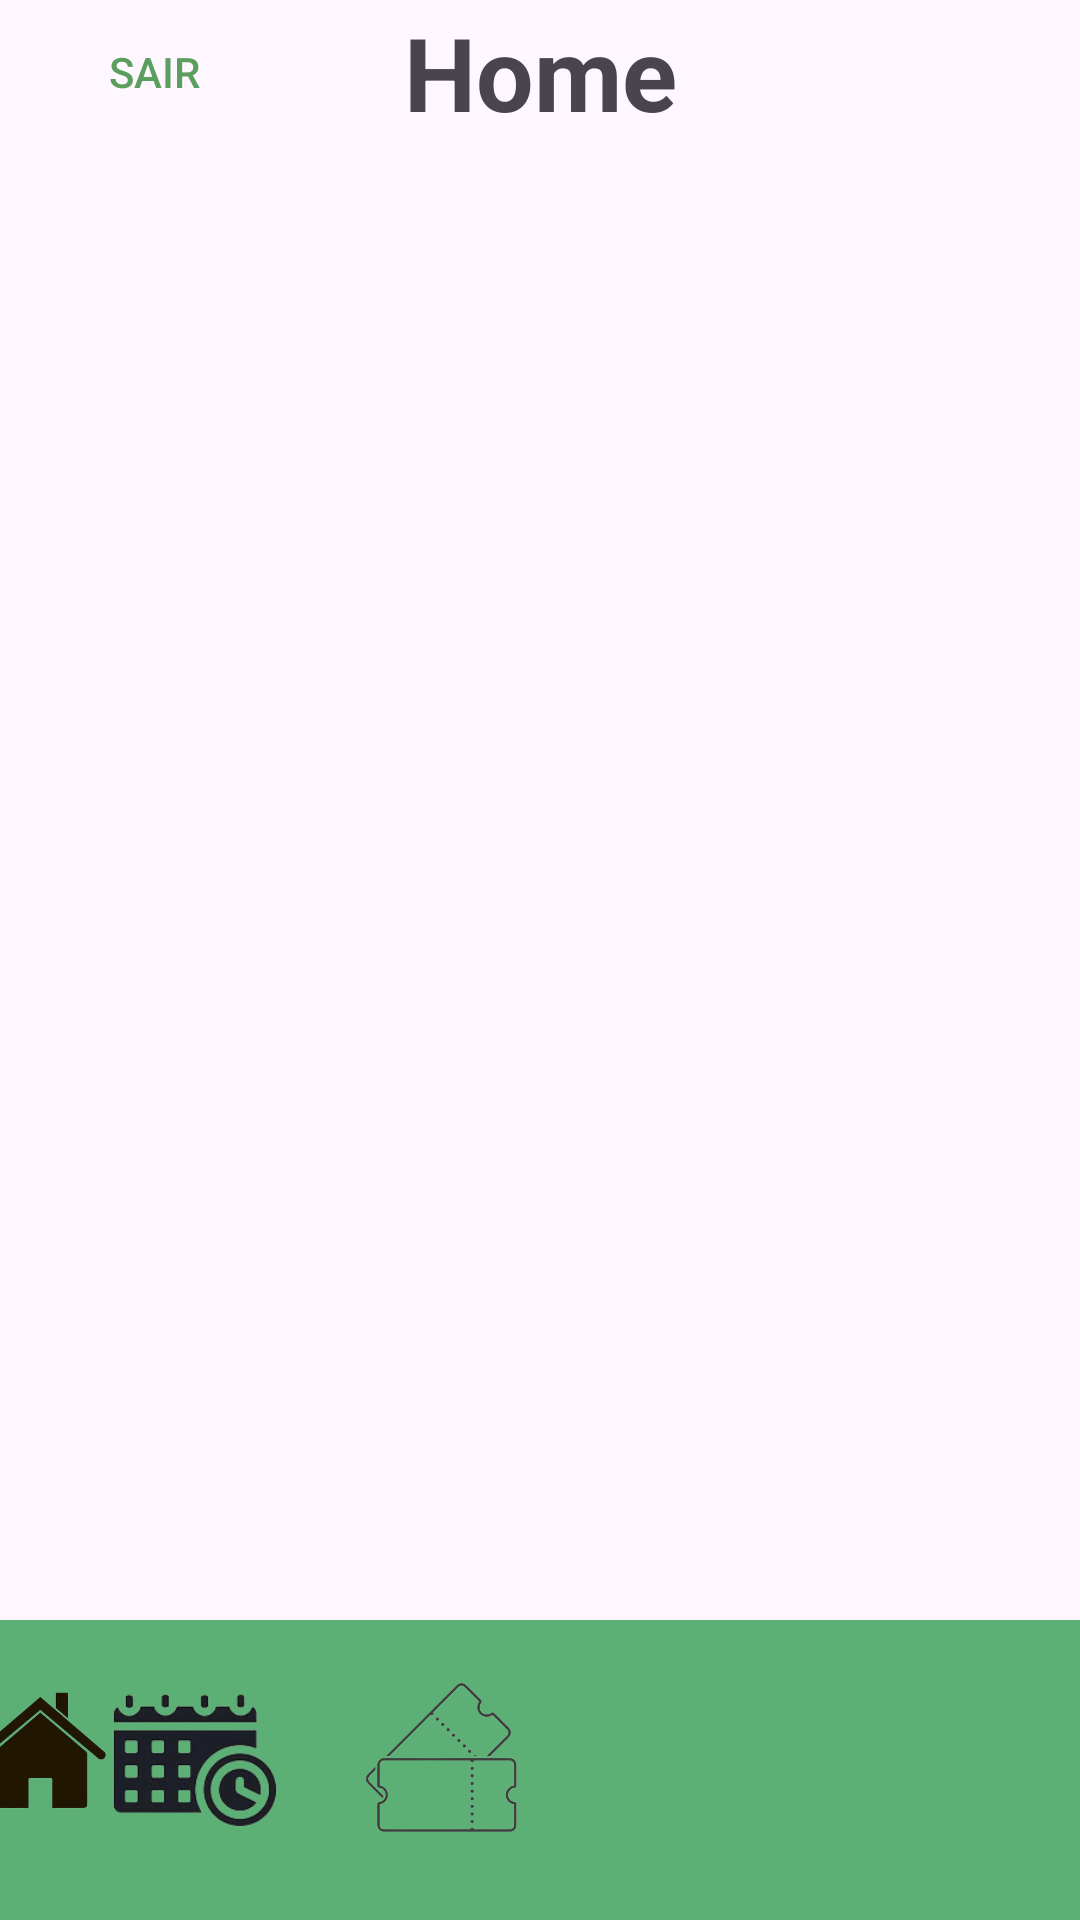

Screen size 1080×1920. Icon name, then its box in pixels as (x1, y1, x2, y2):
reserva: (114, 1694, 276, 1826)
ticket: (366, 1683, 517, 1832)
